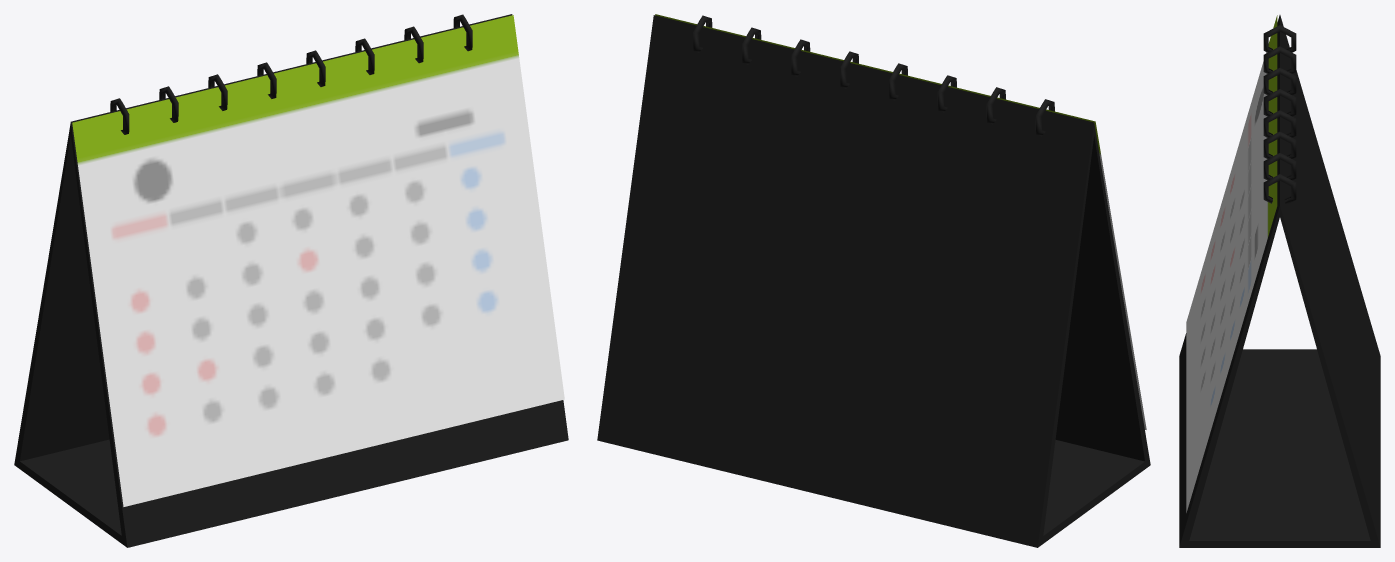
The model's file is tabletop-calendar.glb.
The picture shows the model from 3 angles, left to right: view 1: azimuth 30°, elevation 25°; view 2: azimuth 150°, elevation 25°; view 3: azimuth 270°, elevation 25°; orthographic projection. The views are drawn at different scales.
Visible parts, largest first — view 1: Cube.001, Cube, Torus.001; view 2: Cube, Torus.001, Cube.001; view 3: Cube, Cube.001, Torus.001.
Boxes of the visible parts, x1,y1,x2,y2 form: Cube.001: (72,15,564,506); Cube: (14,14,568,547); Torus.001: (110,14,472,134); Cube: (597,15,1150,547); Torus.001: (693,15,1054,136); Cube.001: (655,14,1146,429); Cube: (1179,15,1380,547); Cube.001: (1186,15,1277,512); Torus.001: (1263,25,1296,204).
Size of the model in its own units: 0.18 by 0.1545 by 0.08.
2 materials, 1 textured.
